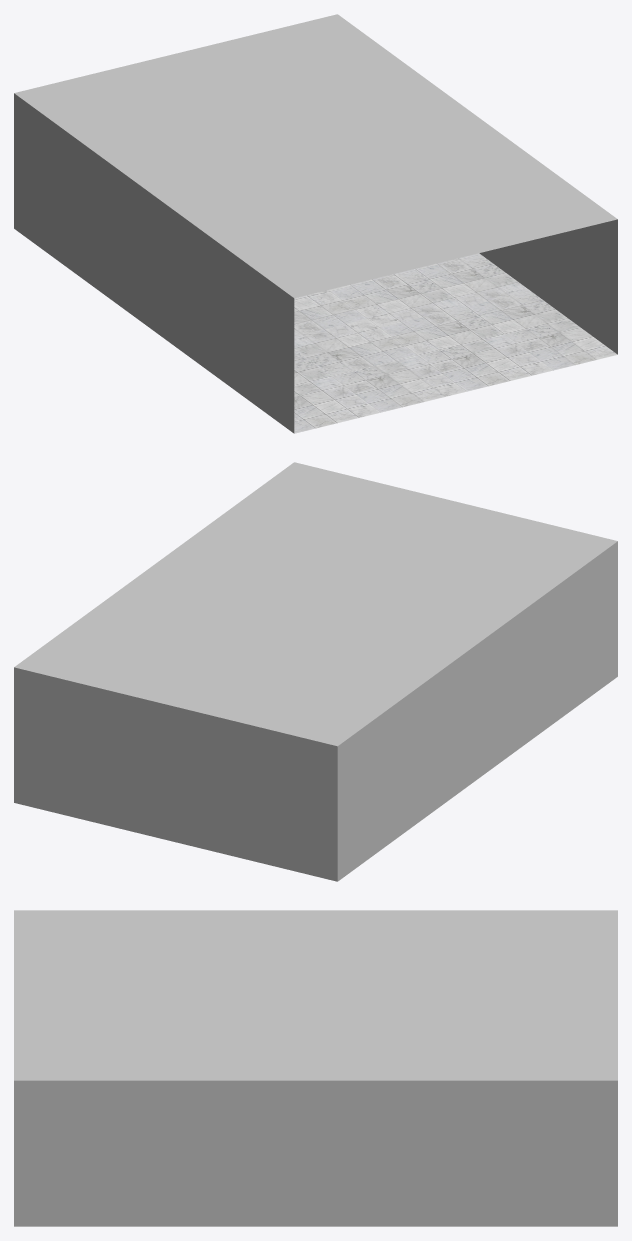
File: toy-store.dae
3 views of the same model, one above another, from view 1: azimuth 30°, elevation 25°; view 2: azimuth 150°, elevation 25°; view 3: azimuth 270°, elevation 25° (orthographic). The views are drawn at different scales.
Visible parts, largest first — view 1: ceeling, rightWall, floor, leftWall; view 2: ceeling, frontWall, rightWall; view 3: ceeling, leftWall.
Part boxes in pixels (x1=…): ceeling: x1=14, y1=14, x2=617, y2=298; rightWall: x1=14, y1=93, x2=294, y2=433; floor: x1=294, y1=253, x2=617, y2=433; leftWall: x1=479, y1=219, x2=617, y2=354; ceeling: x1=14, y1=462, x2=617, y2=746; frontWall: x1=14, y1=667, x2=337, y2=881; rightWall: x1=337, y1=541, x2=617, y2=881; ceeling: x1=14, y1=910, x2=617, y2=1080; leftWall: x1=14, y1=1080, x2=617, y2=1226.
Size of the model in its own units: 100 by 150 by 40.
Materials: 14 (7 with a texture image).
